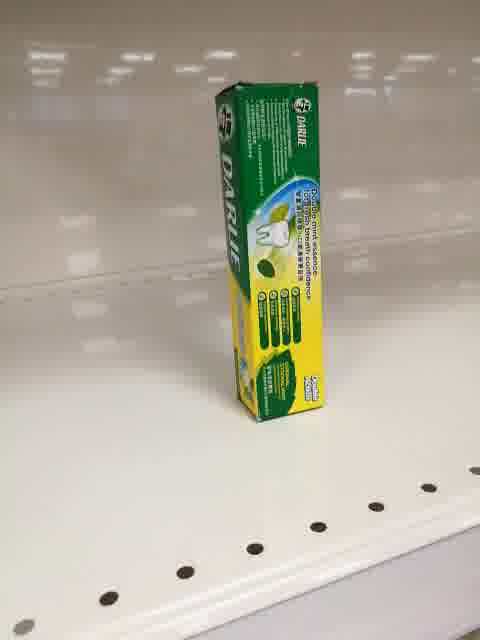toothpaste: (211, 81, 327, 424)
